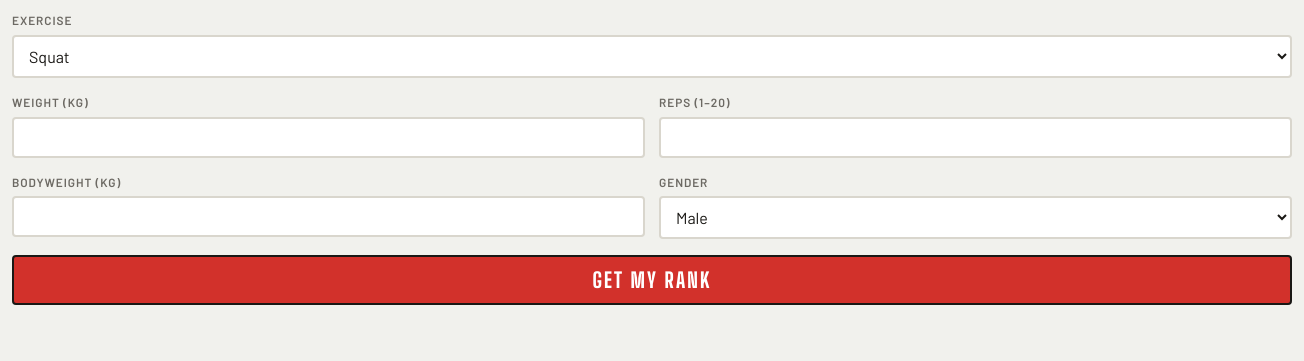
it: LiftForm absurd-weight prompts › asks the right question for a 600kg deadlift
Select "Deadlift" in the dropdown labelled "Exercise" at (652, 56), box [12, 35, 1292, 78]
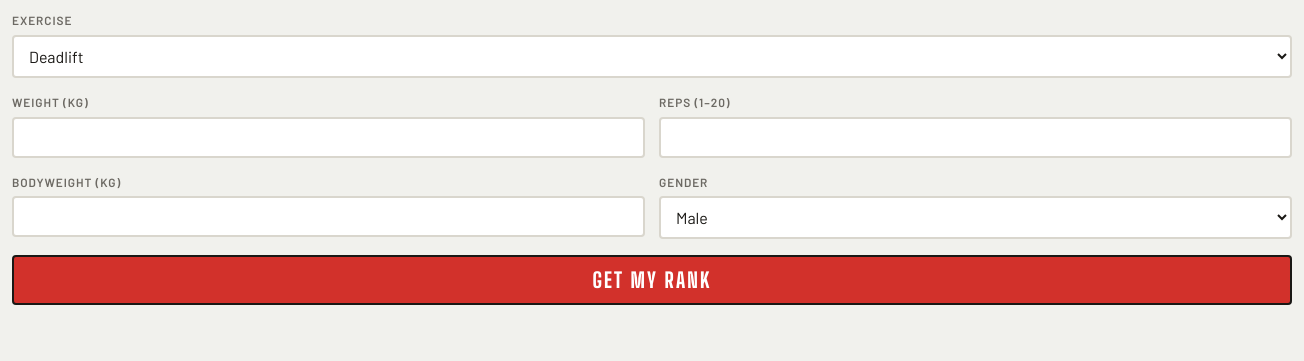
Type "600" into the number field labelled "Weight (kg)" at (328, 137), box [12, 116, 645, 158]
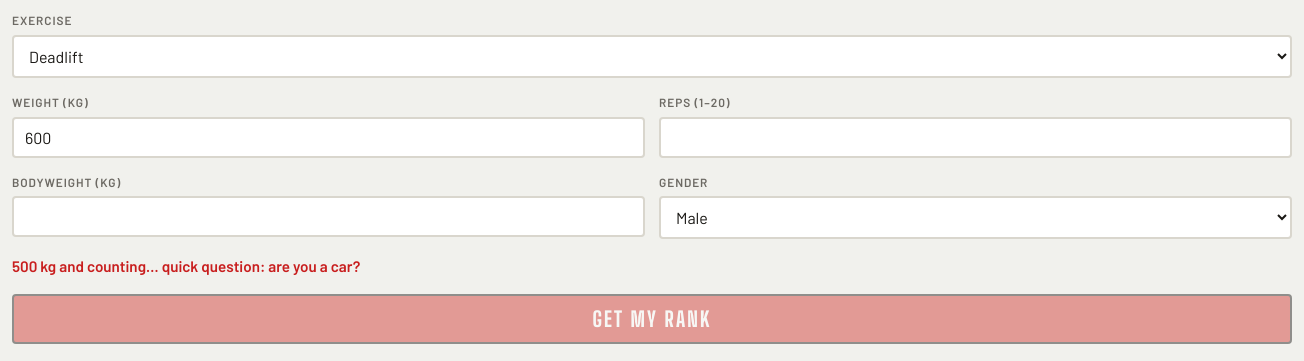
Check: the message shows "are you a car?", box [12, 257, 360, 275]
Check: the button "Get my rank" is disabled, box [12, 294, 1292, 344]
